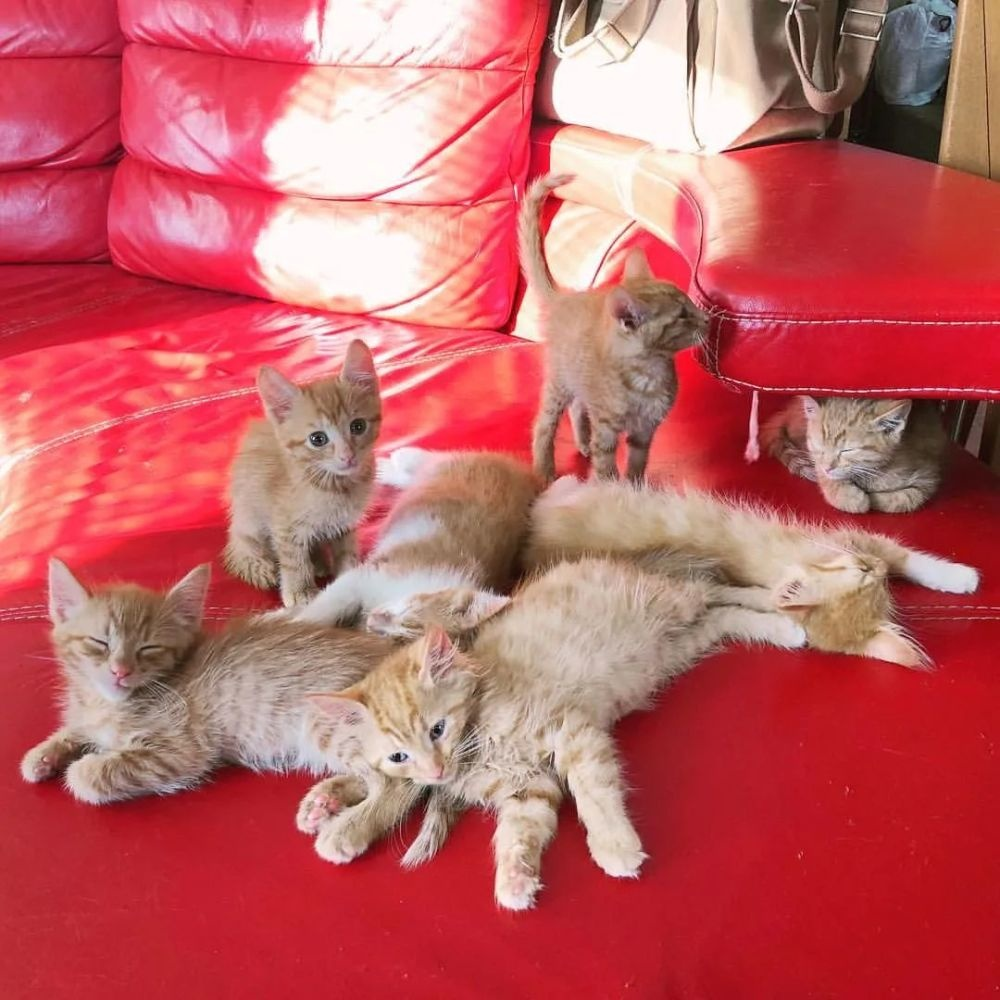cat: (327, 553, 806, 914), (22, 555, 415, 804), (525, 473, 981, 673), (516, 172, 707, 484), (288, 445, 539, 644), (224, 342, 383, 610), (762, 394, 948, 515)
